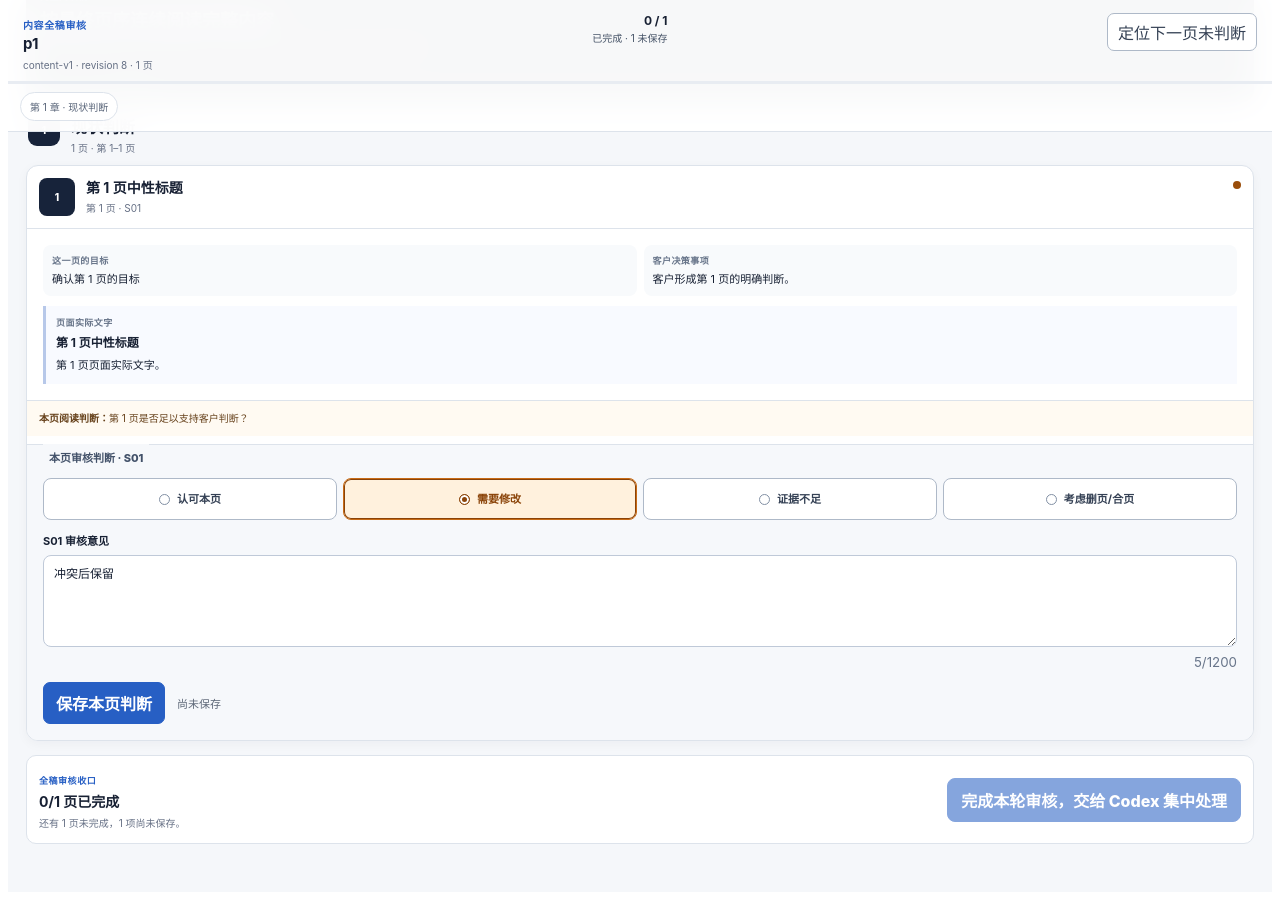
Test: ContentReviewViewModelController › keeps the local draft and completed count after REVISION_CONFLICT
(page scrolled)
Click the button "保存本页判断" at (104, 703), box [43,682,165,724]
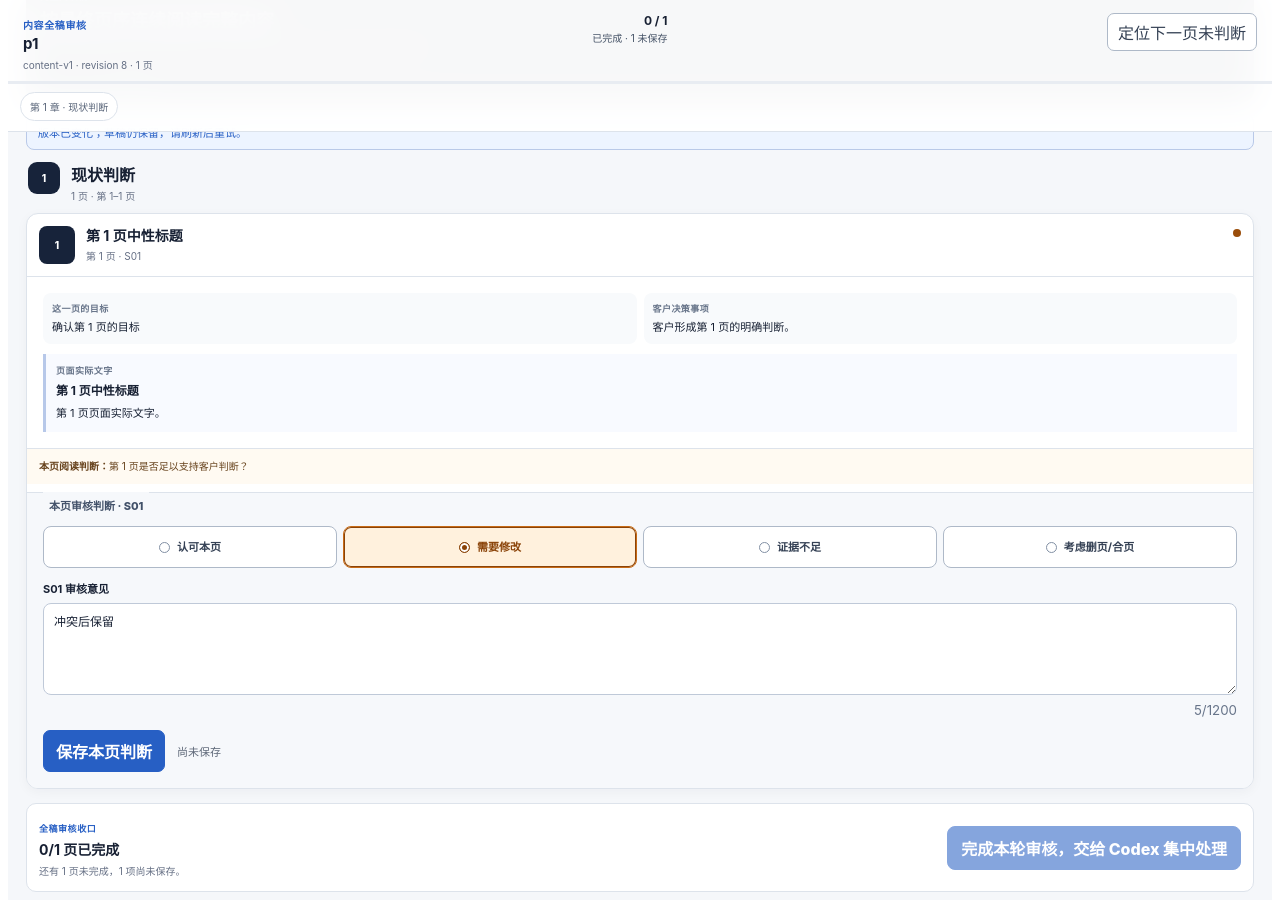
Check: the text box labelled "S01 审核意见" holds "冲突后保留", box [43,603,1237,695]
Check: the text "版本已变化；草稿仍保留，请刷新后重试。" is shown, box [26,114,1254,150]
